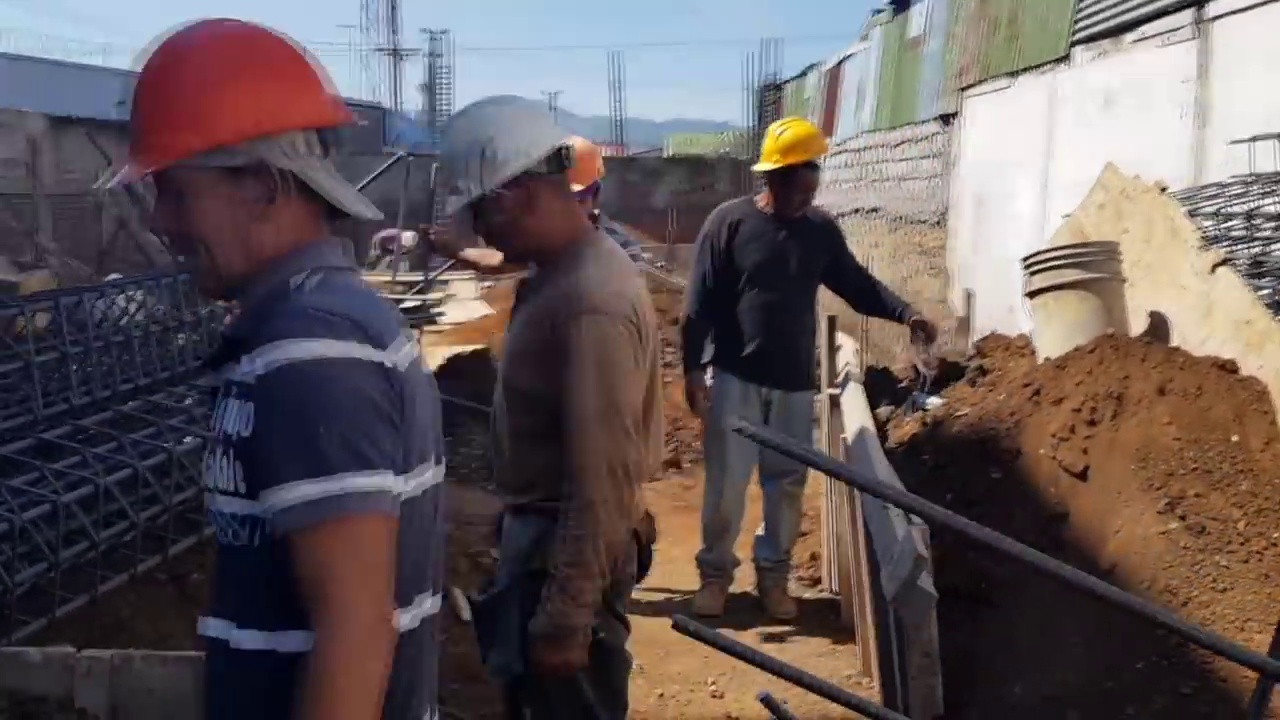helmet: (117, 22, 360, 204), (433, 106, 559, 232), (751, 112, 835, 180), (540, 137, 603, 191)
helmet-on: (120, 26, 362, 303), (427, 109, 607, 270), (752, 117, 834, 226), (539, 134, 605, 231)
person: (128, 39, 444, 704), (943, 159, 1266, 716), (676, 104, 959, 691), (441, 125, 674, 702)
